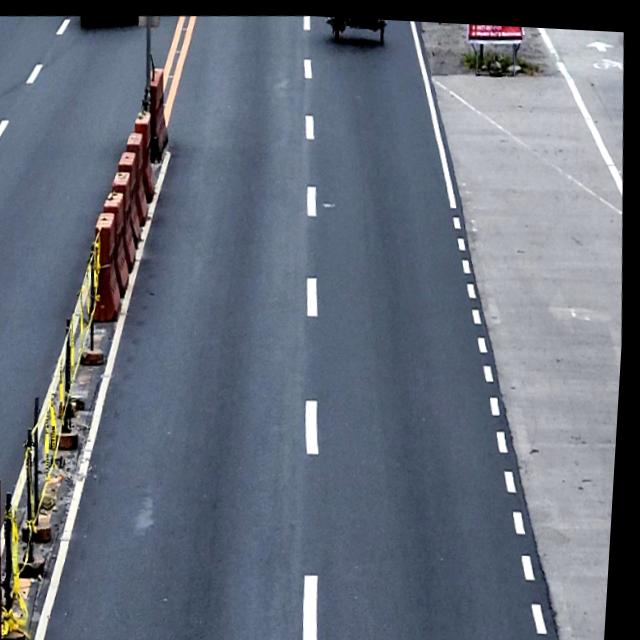Tricycle: (330, 13, 387, 43)
